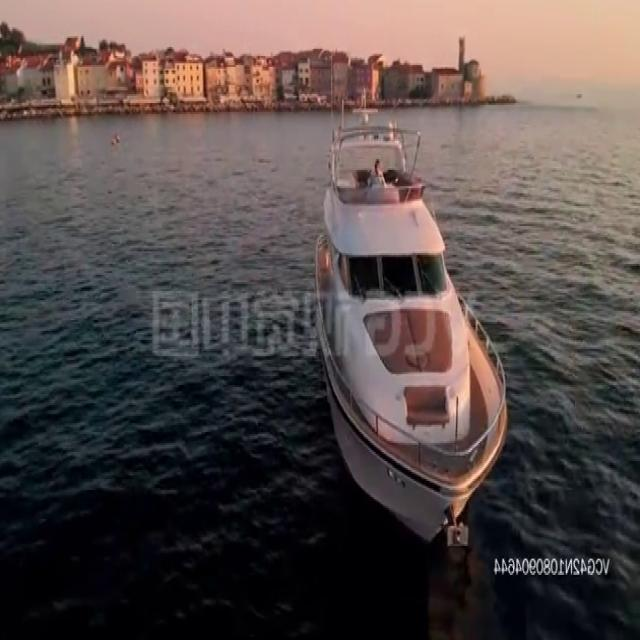houseboat: (310, 81, 510, 544)
